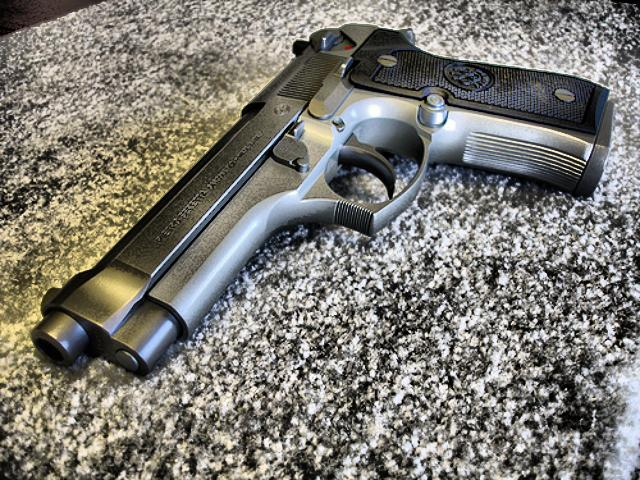pistol: (34, 21, 608, 380)
